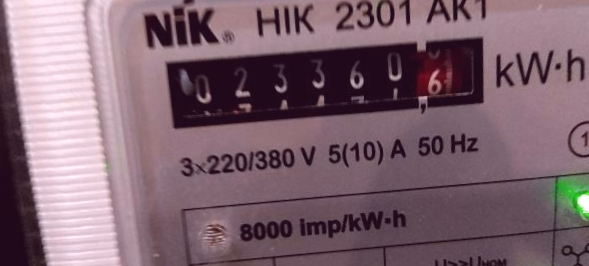0: (189, 68, 214, 105), (381, 46, 406, 83)
2: (229, 62, 253, 99)
3: (268, 59, 291, 95), (307, 54, 328, 90)
6: (344, 54, 367, 90), (423, 62, 444, 97)
screen: (150, 19, 509, 149)
